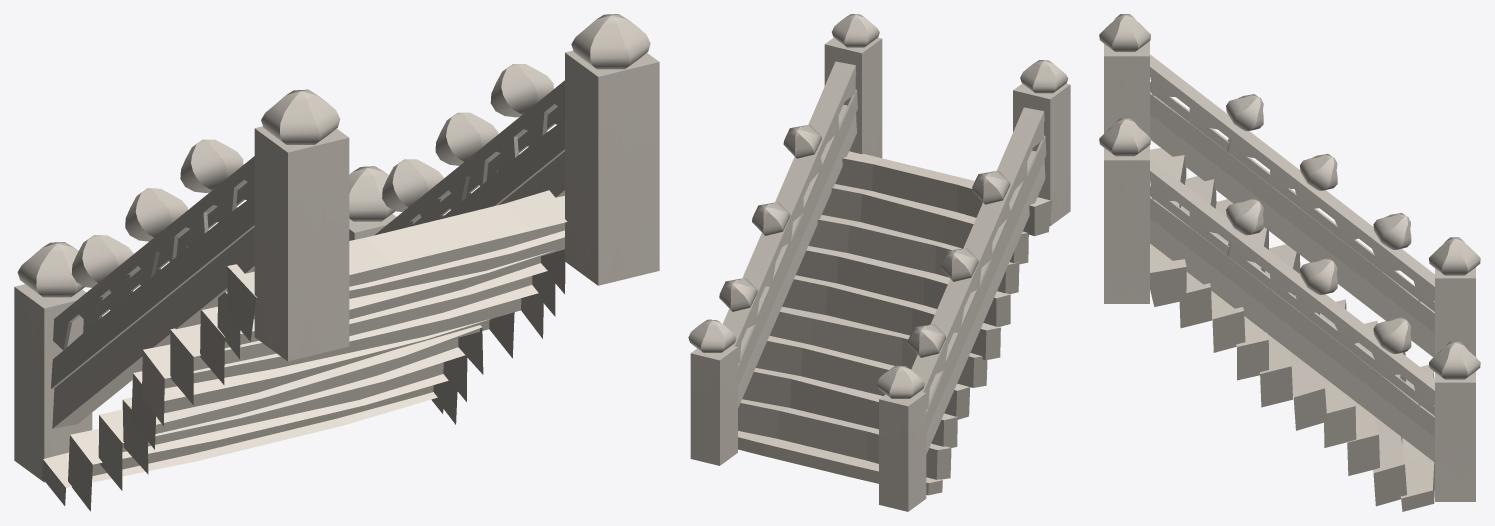
File: stair.fbx
3 renders of one model, left to right at view 1: azimuth 30°, elevation 25°; view 2: azimuth 150°, elevation 25°; view 3: azimuth 270°, elevation 25°, orthographic. The views are drawn at different scales.
Visible parts, largest first — view 1: stair; view 2: stair; view 3: stair.
Part boxes in pixels (bbox=[...]): stair: bbox=[14, 14, 659, 511]; stair: bbox=[688, 14, 1070, 511]; stair: bbox=[1099, 14, 1480, 511].
Size of the model in its own units: 317 by 445 by 404.
